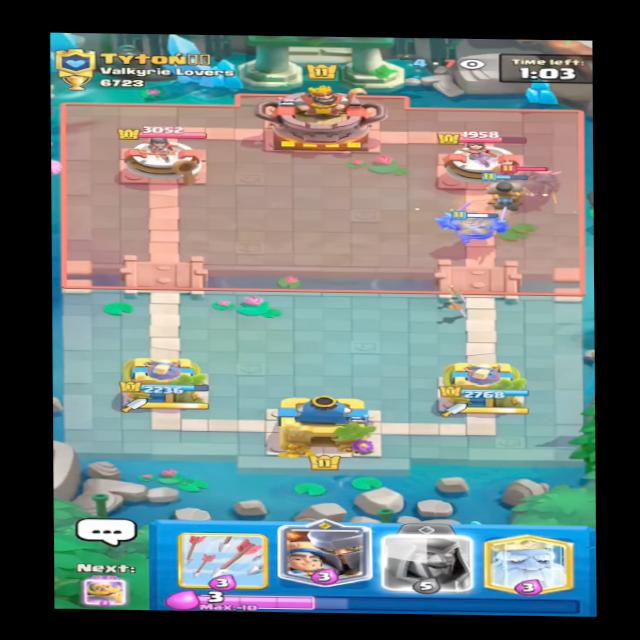Pekka: (482, 154, 562, 203)
